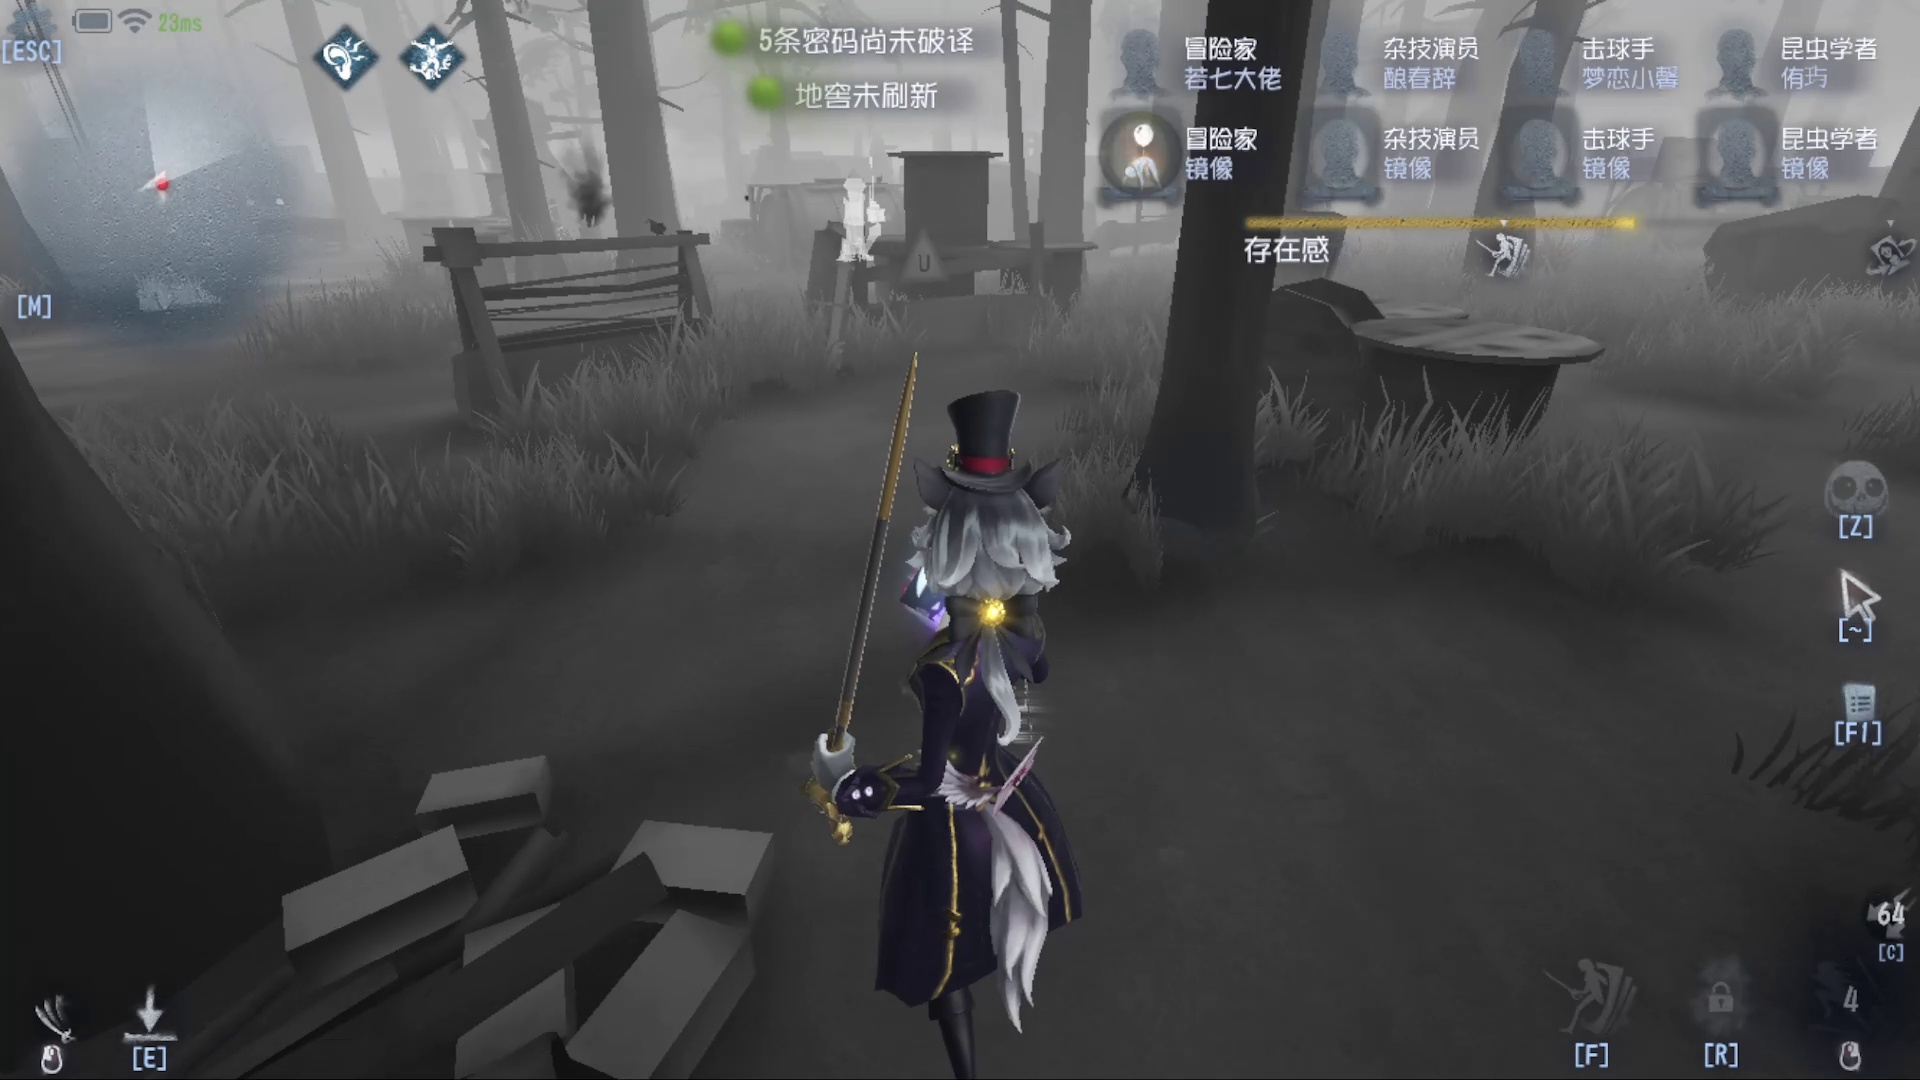狂欢之椅: (793, 225, 862, 367), (807, 161, 874, 278)
